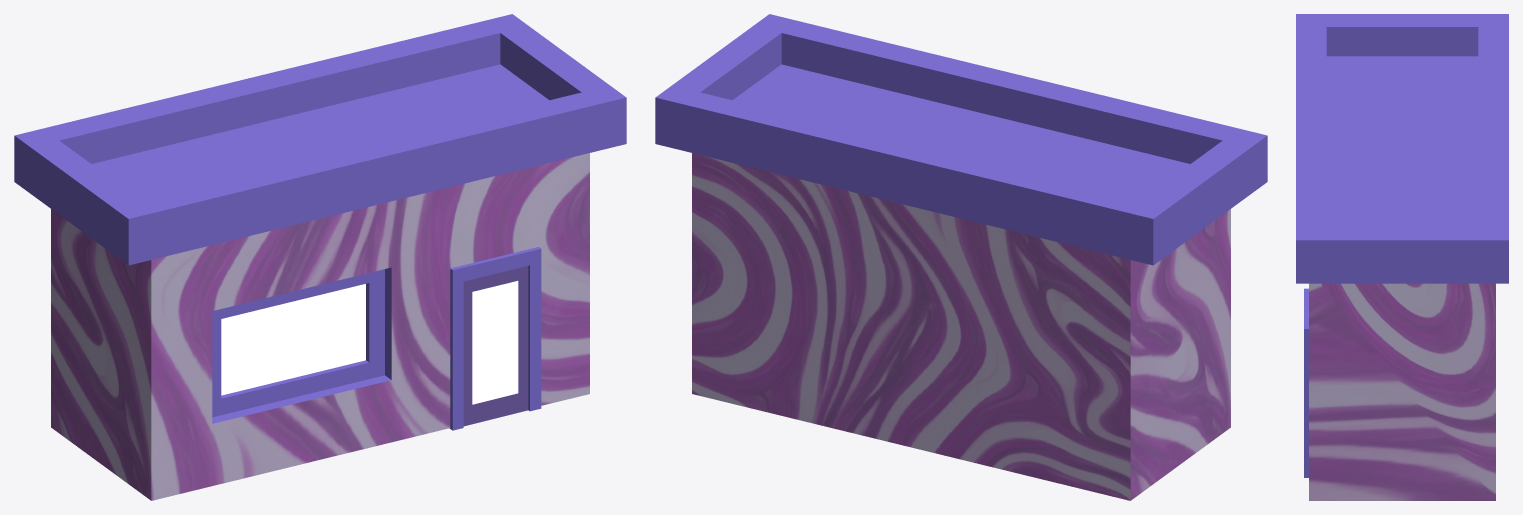
The model's file is Swirl house fixed.fbx.
3 views of the same model, side by side, from view 1: azimuth 30°, elevation 25°; view 2: azimuth 150°, elevation 25°; view 3: azimuth 270°, elevation 25° (orthographic). The views are drawn at different scales.
Parts seen in each view (by area): view 1: Cube.060, Cube.040; view 2: Cube.060; view 3: Cube.060, Cube.040.
Part boxes in pixels (x1,y1,x2,y2): Cube.060: (14,14,626,500); Cube.040: (450,247,541,430); Cube.060: (655,14,1267,500); Cube.060: (1296,14,1508,500); Cube.040: (1304,288,1308,477).
Size of the model in its own units: 1388 by 785 by 551.
Materials: 5 (1 with a texture image).
